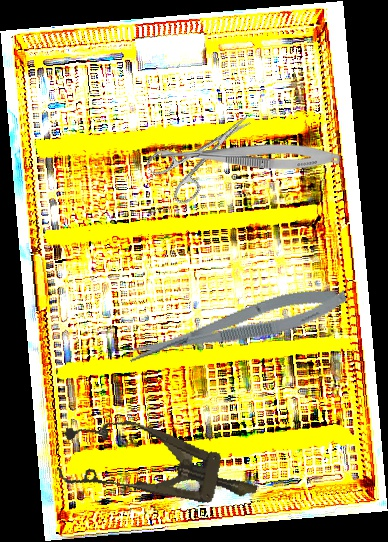Iris Scissors: (144, 97, 267, 210)
Micro Scissor: (123, 279, 351, 371), (147, 144, 340, 170)
Speculum: (53, 407, 266, 528)
